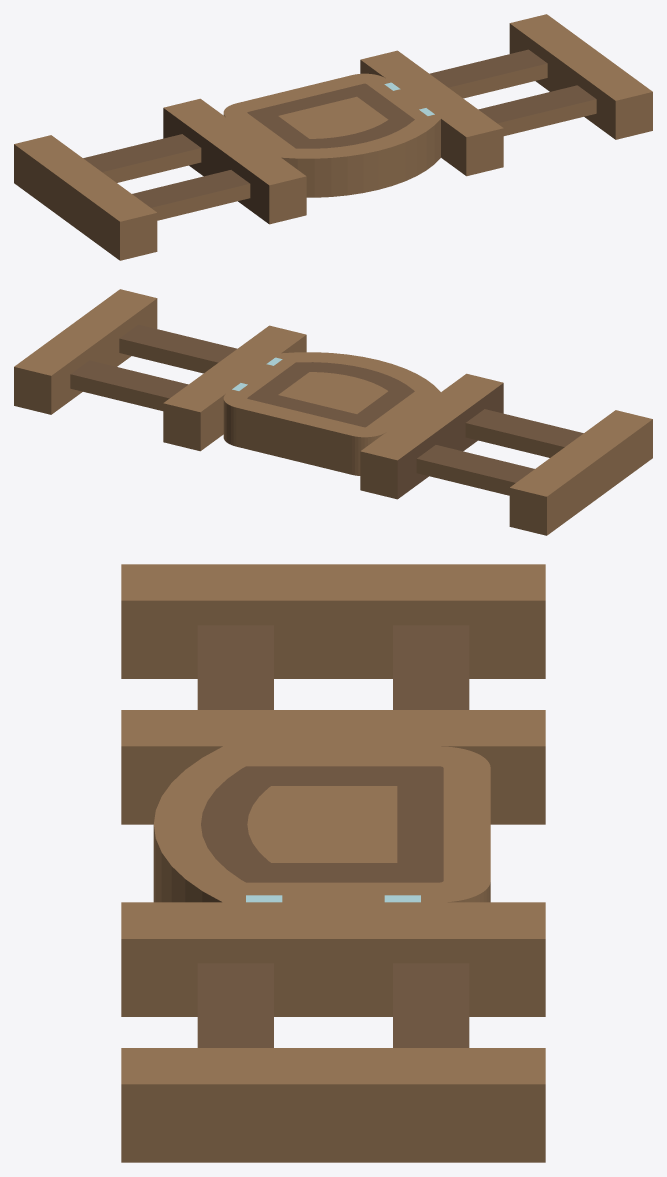
The model's file is fence-gate.obj.
The picture shows the model from 3 angles, top to bottom: view 1: azimuth 30°, elevation 25°; view 2: azimuth 150°, elevation 25°; view 3: azimuth 270°, elevation 25°; orthographic projection. The views are drawn at different scales.
Parts seen in each view (by area): view 1: fence-gate; view 2: fence-gate; view 3: fence-gate.
Part boxes in pixels (x1,y1,x2,y2): fence-gate: [14, 14, 652, 260]; fence-gate: [14, 289, 652, 535]; fence-gate: [121, 564, 545, 1162].
Size of the model in its own units: 122 by 8.52 by 42.
